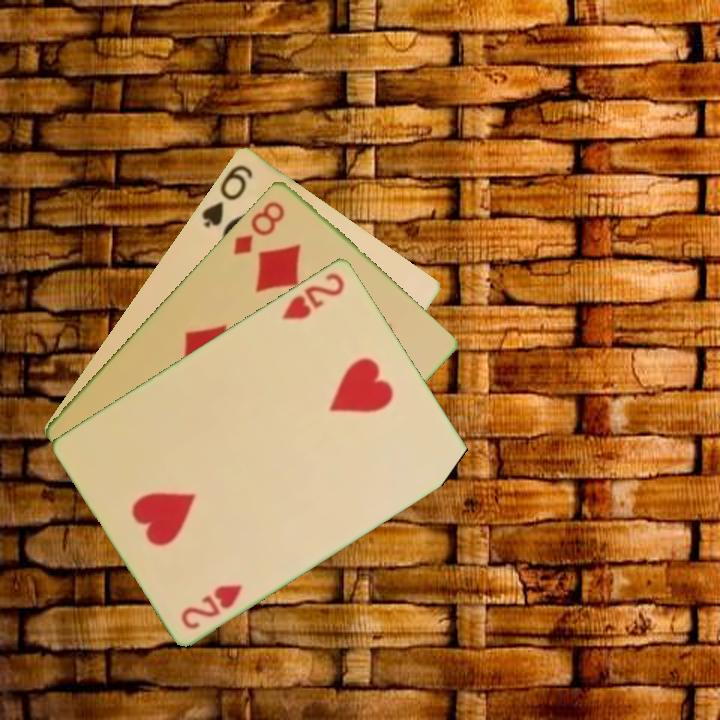2h: (278, 268, 348, 322), (177, 580, 246, 632)
6s: (198, 160, 256, 231)
8d: (230, 196, 288, 258)
